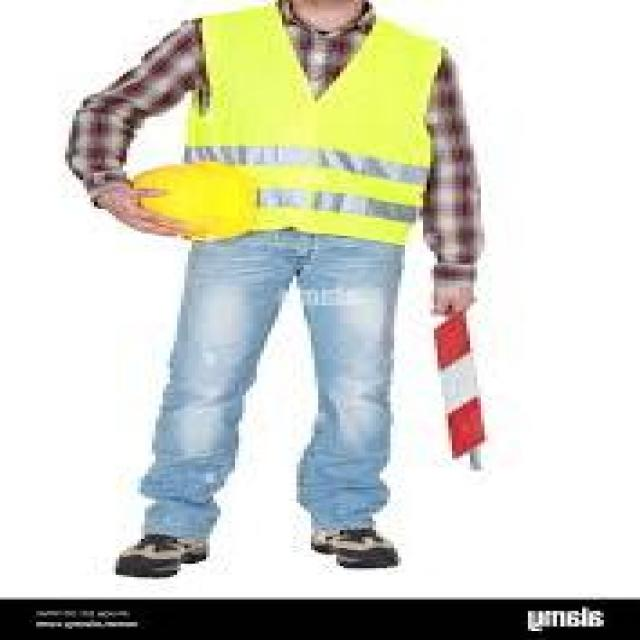Reflective-Jacket: (152, 4, 459, 250)
